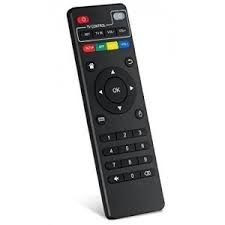remote control: (66, 3, 170, 225)
